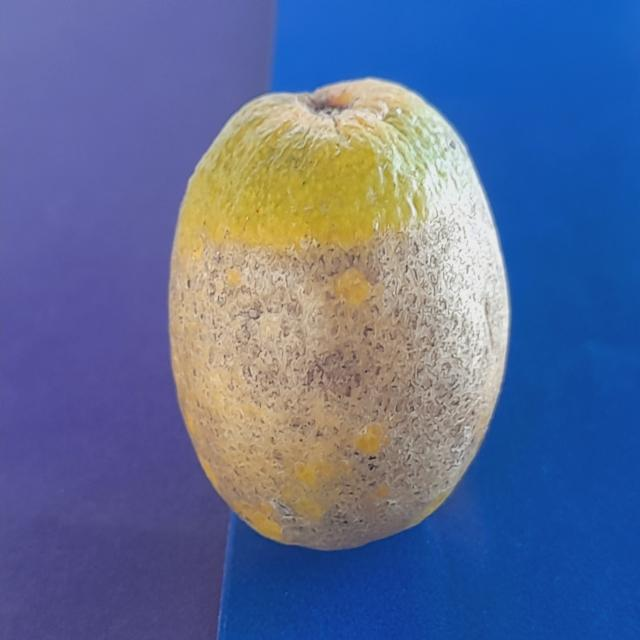thrips: (132, 64, 526, 567)
